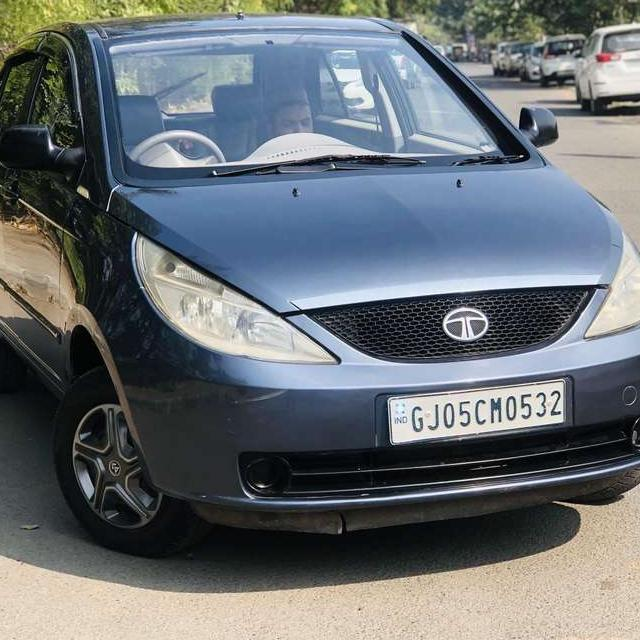Indian_Number_Plate: (394, 382, 569, 444)
